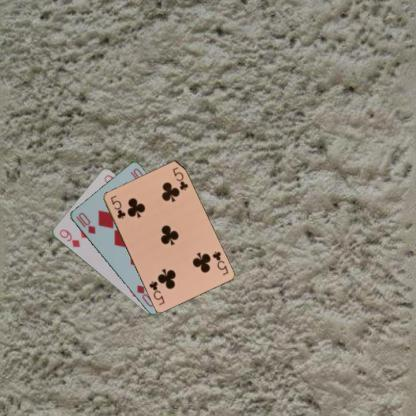10d: (76, 210, 97, 235)
5c: (209, 249, 230, 276), (108, 192, 126, 221)
9d: (56, 226, 82, 249)
